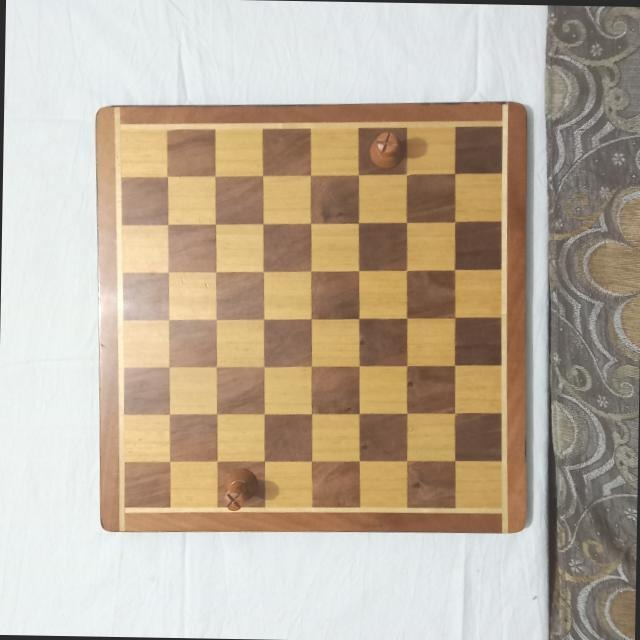white-rook: (220, 467, 259, 513), (368, 125, 402, 168)
